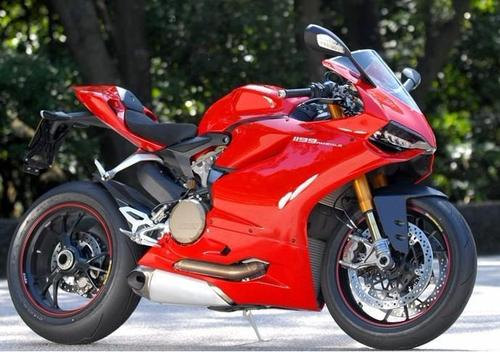motor: (30, 28, 474, 339)
